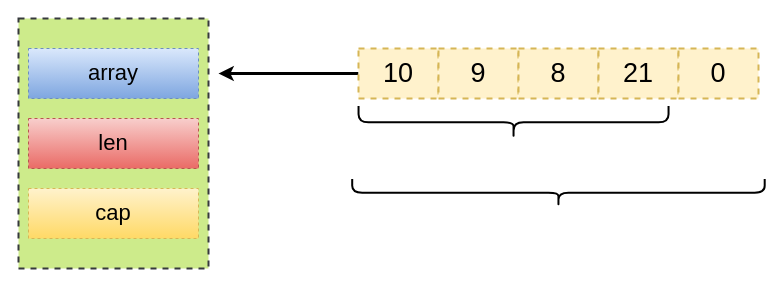
Image size: 783x286. Some labels were removed from this diagram. The shapes that lost their labels are listed below. From the top down, each one's centre as x and y in pixels, then its label:
(513,122): len=4
(558,192): cap=5
